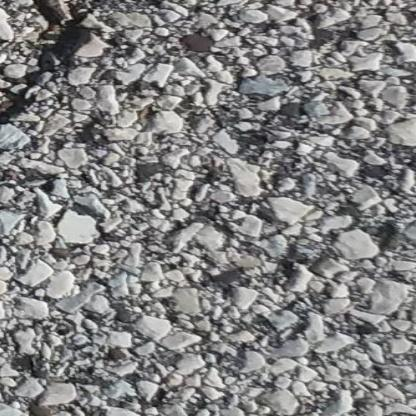Cracks: (0, 0, 89, 171)
